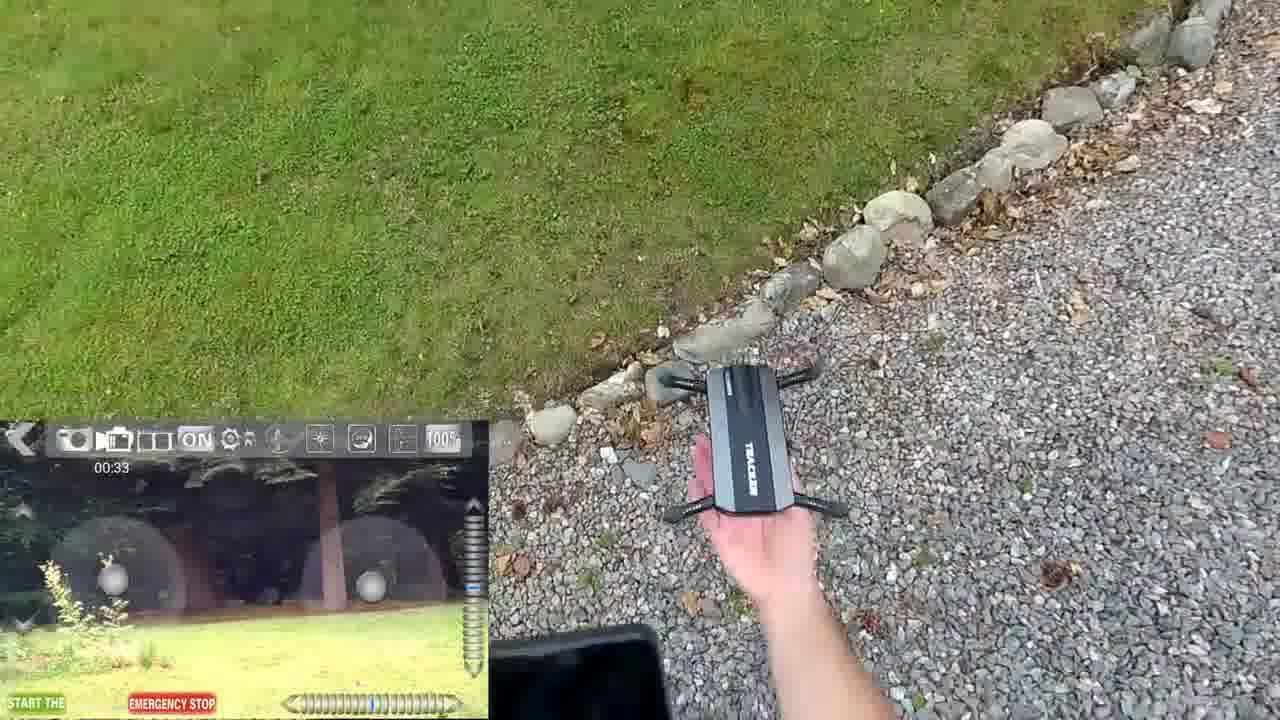drone: (637, 344, 866, 541)
